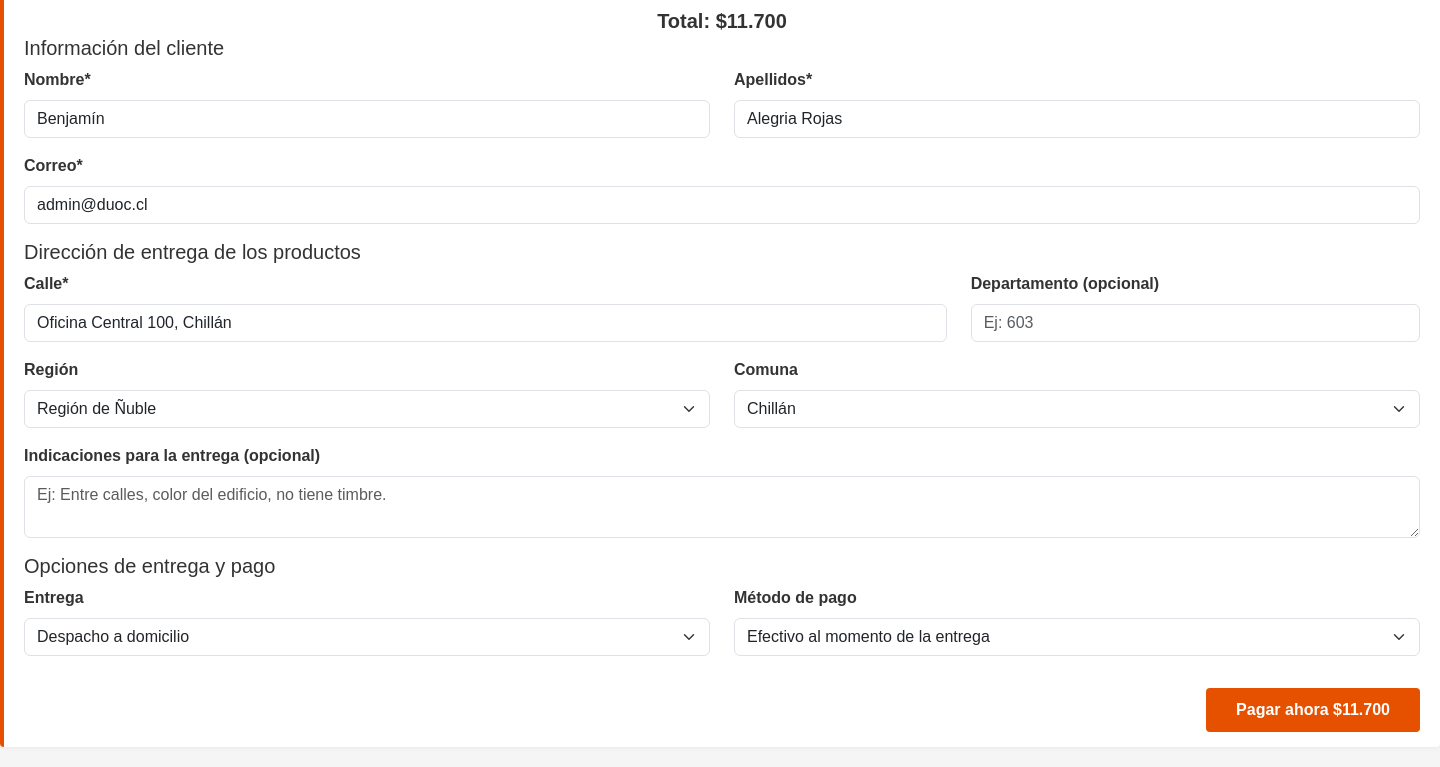
Checkout › pago correcto (efectivo): crea la orden, descuenta stock, vacía el carrito y muestra la boleta
(page scrolled)
Click the button "Pagar ahora $11.700" at (1313, 710), box [1206, 688, 1420, 732]
(page scrolled)
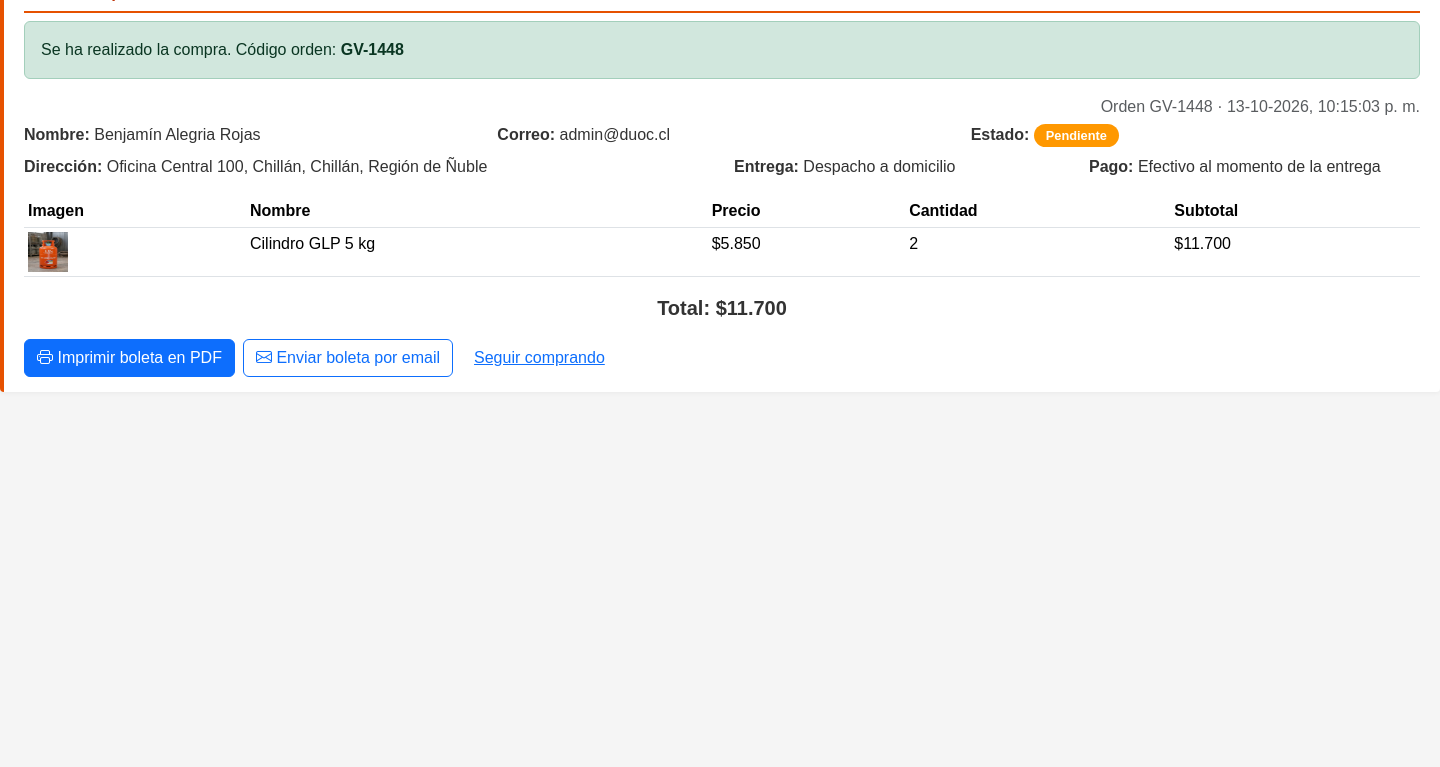
Expected: the text "Se ha realizado la compra. Código orden: GV-1448" is shown, [24, 21, 1420, 79]
Expected: the button "Imprimir boleta en PDF" is shown, [24, 339, 235, 377]
Expected: the button "Enviar boleta por email" is shown, [243, 339, 453, 377]
